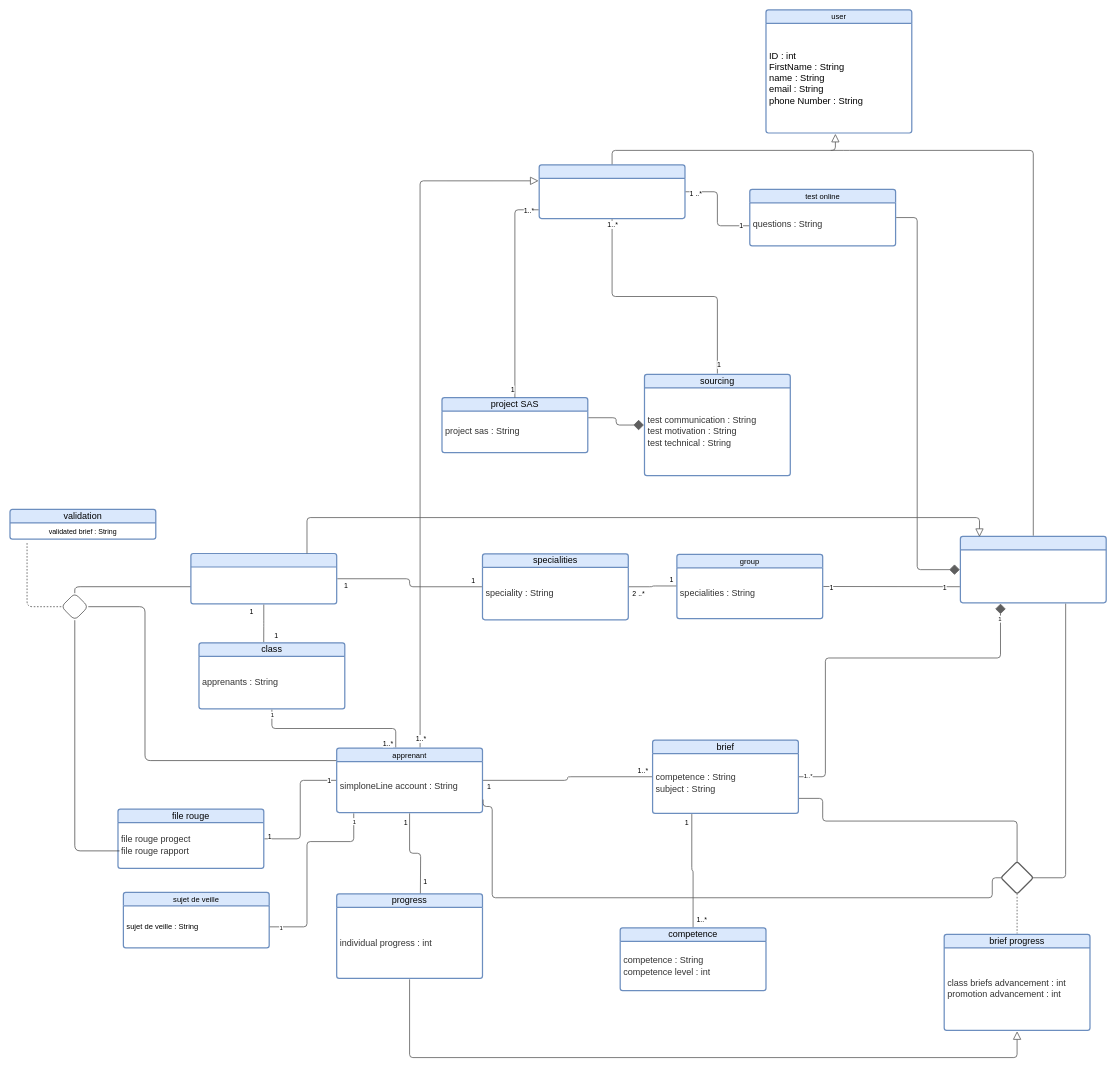
Image size: 1116x1075. Some labels were removed from this diagram. Each missing label, with the centre of its shape:
coach: [263,578]
conditateur: [611,191]
staff: [1033,569]
